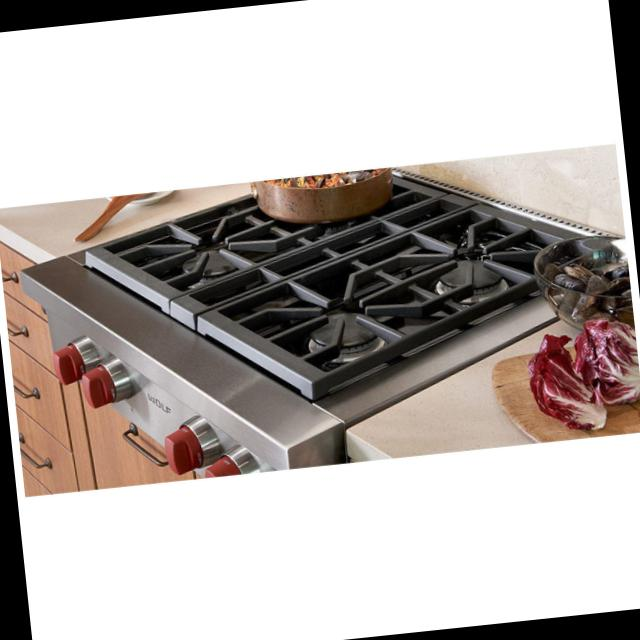knob_OFF: (205, 279, 475, 386), (364, 220, 564, 311), (96, 219, 294, 297)
